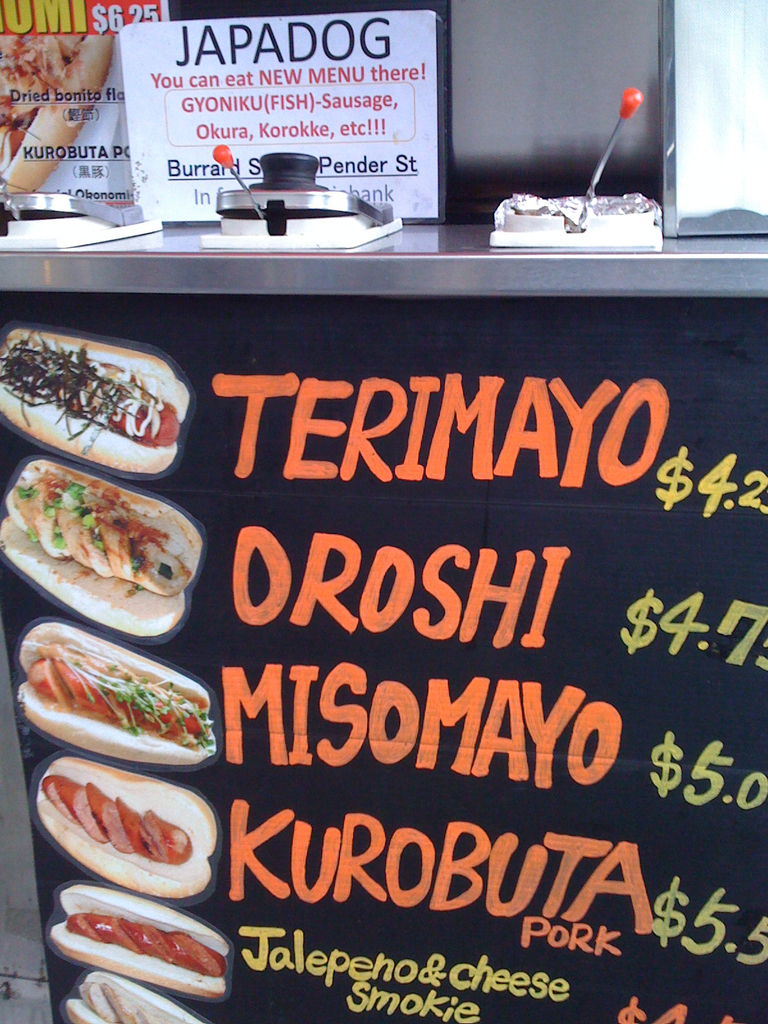sandwich: (0, 327, 232, 1023)
